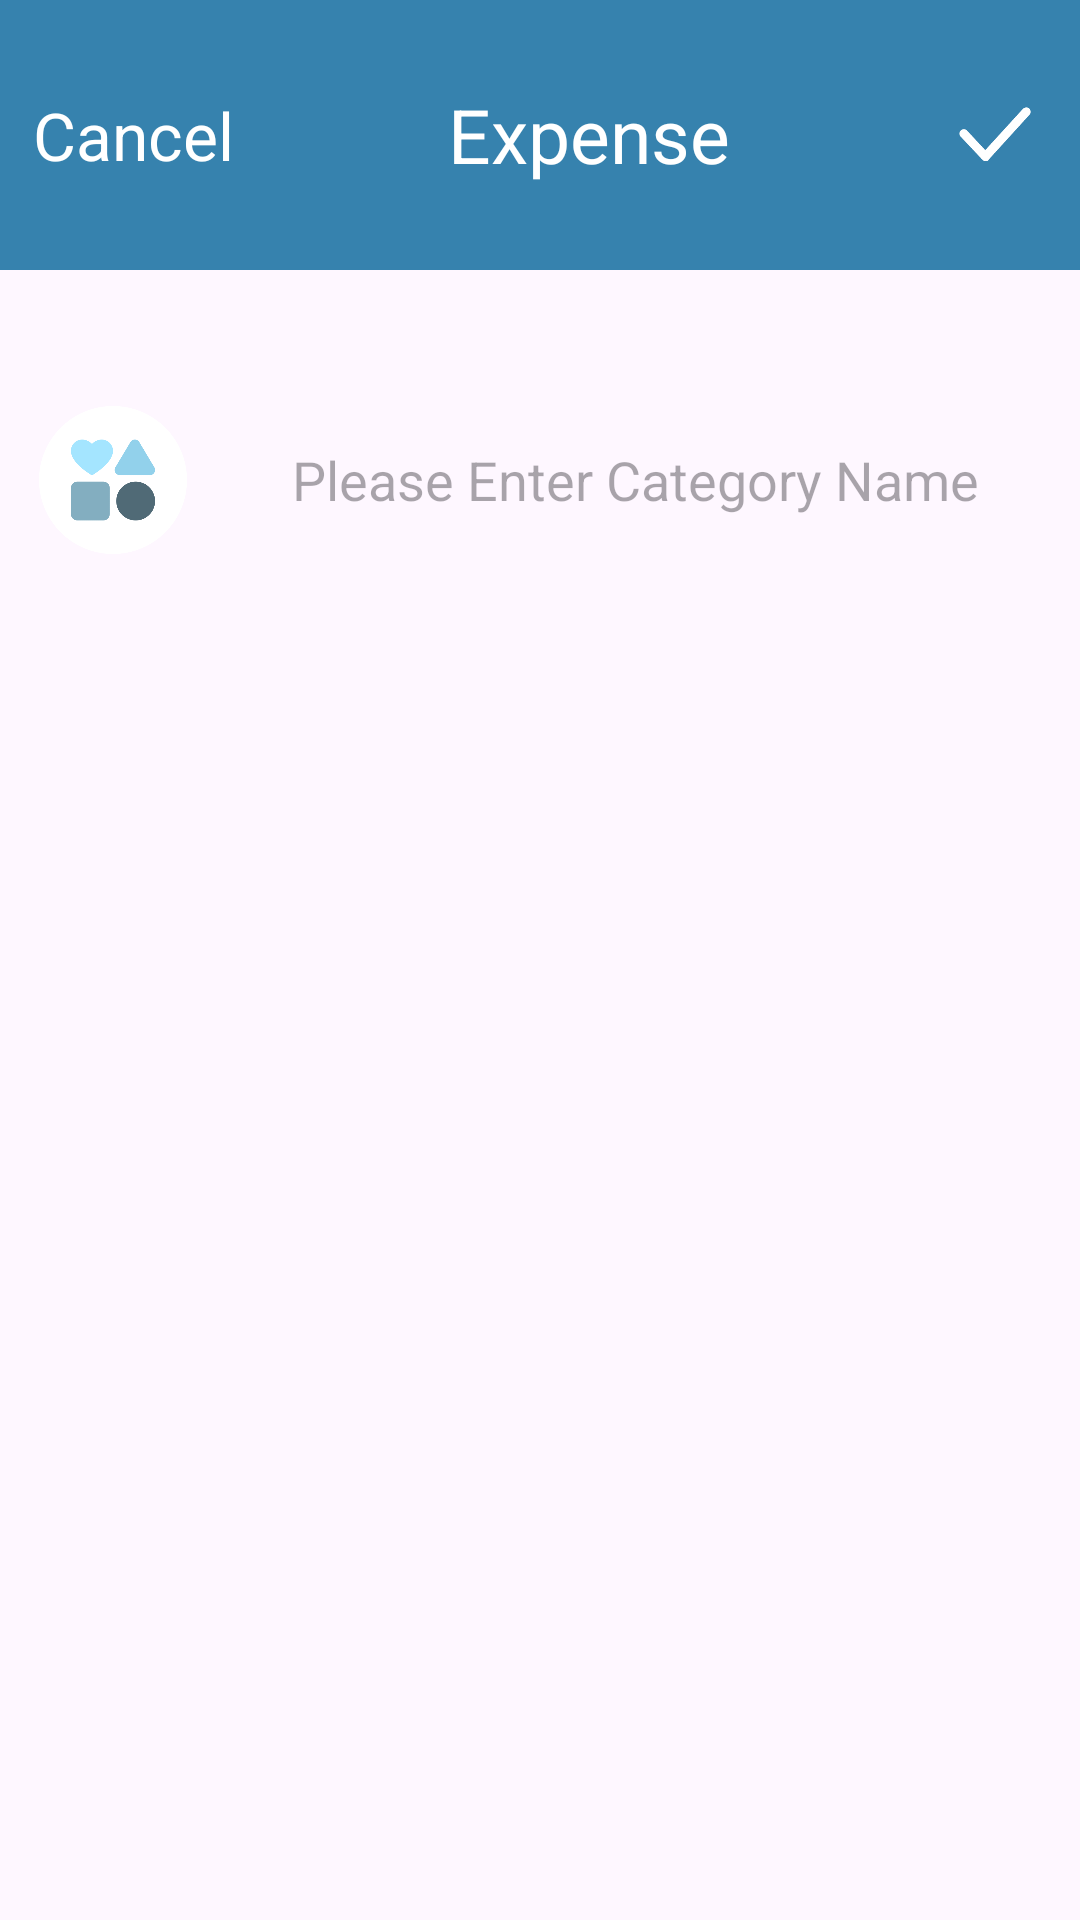

Screen size 1080px×1920px. Icon name, then its center in pixels as (x=x, y=y):
checkmark: (x=995, y=134)
